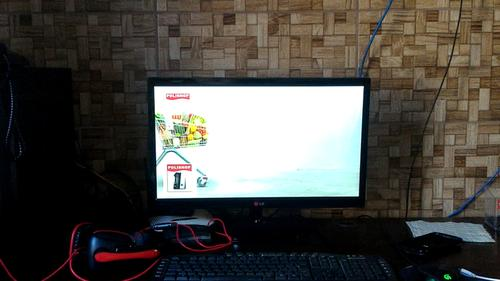Polishop #1: (161, 161, 197, 194)
